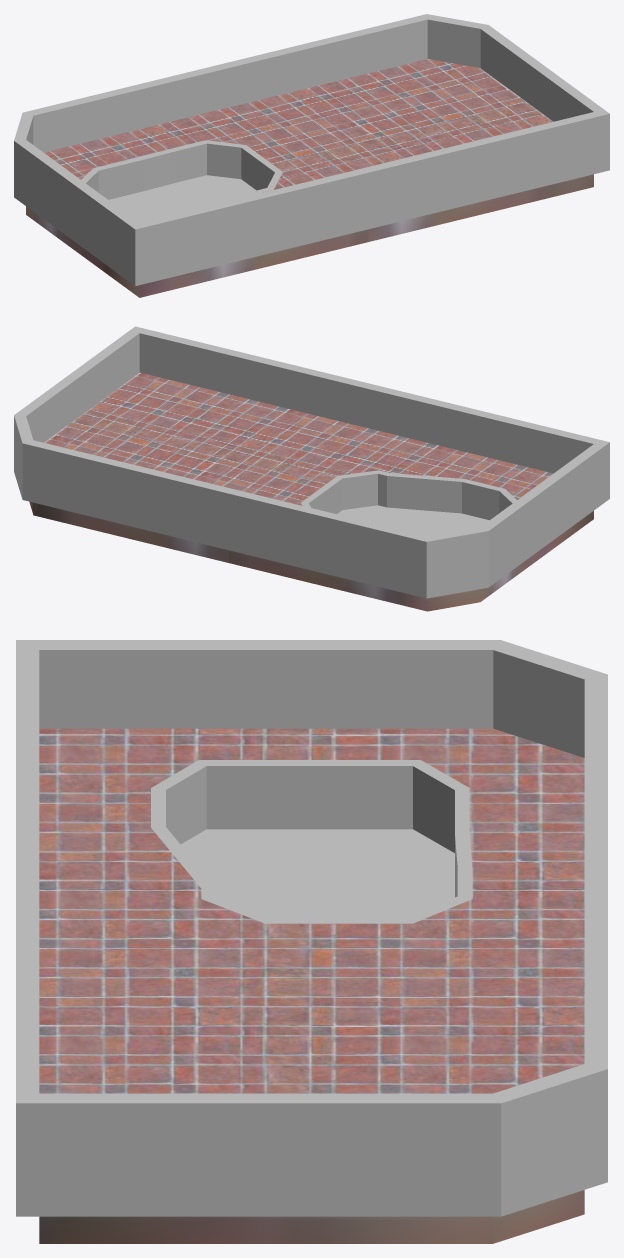
Rendered from hirise_parts02_pool_r.fbx.
The picture shows the model from 3 angles, top to bottom: view 1: azimuth 30°, elevation 25°; view 2: azimuth 150°, elevation 25°; view 3: azimuth 270°, elevation 25°; orthographic projection. The views are drawn at different scales.
Visible parts, largest first — view 1: hirise_parts02_pool_r; view 2: hirise_parts02_pool_r; view 3: hirise_parts02_pool_r.
Boxes of the visible parts, x1,y1,x2,y2 form: hirise_parts02_pool_r: (14, 14, 609, 297); hirise_parts02_pool_r: (14, 326, 609, 611); hirise_parts02_pool_r: (16, 640, 607, 1243).
Bounding box in the file's own units: 12.59 × 1.9 × 6.8.
